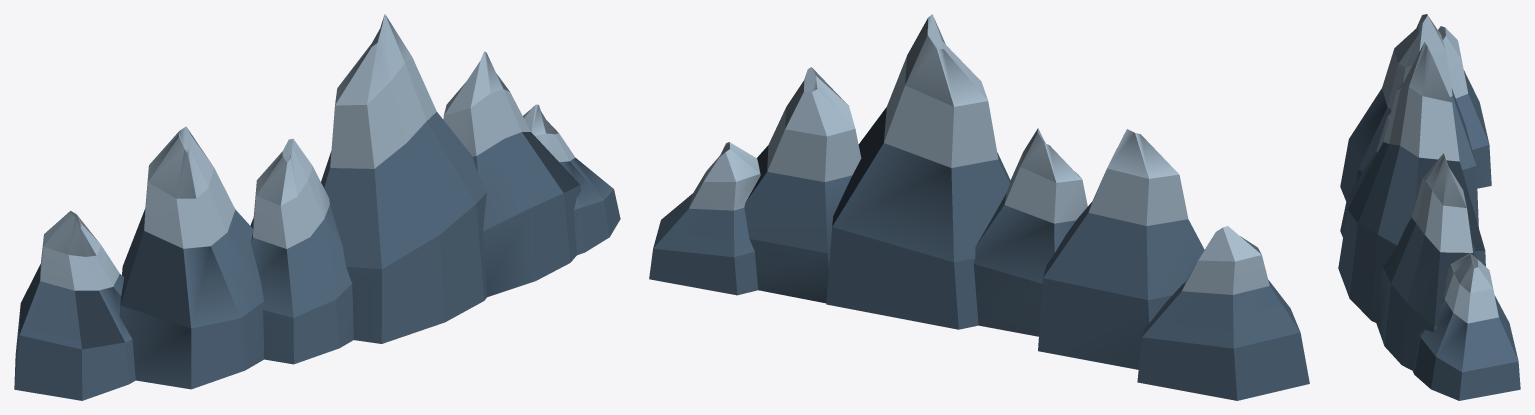
Rendered from frost-ridge.glb.
3 renders of one model, left to right at view 1: azimuth 30°, elevation 25°; view 2: azimuth 150°, elevation 25°; view 3: azimuth 270°, elevation 25°, orthographic. The views are drawn at different scales.
Visible parts, largest first — view 1: frost-ridge; view 2: frost-ridge; view 3: frost-ridge.
Part boxes in pixels (x1=…): frost-ridge: x1=14, y1=14, x2=620, y2=400; frost-ridge: x1=649, y1=14, x2=1309, y2=400; frost-ridge: x1=1338, y1=14, x2=1520, y2=400.
Size of the model in its own units: 32.9 by 14.07 by 9.34.
